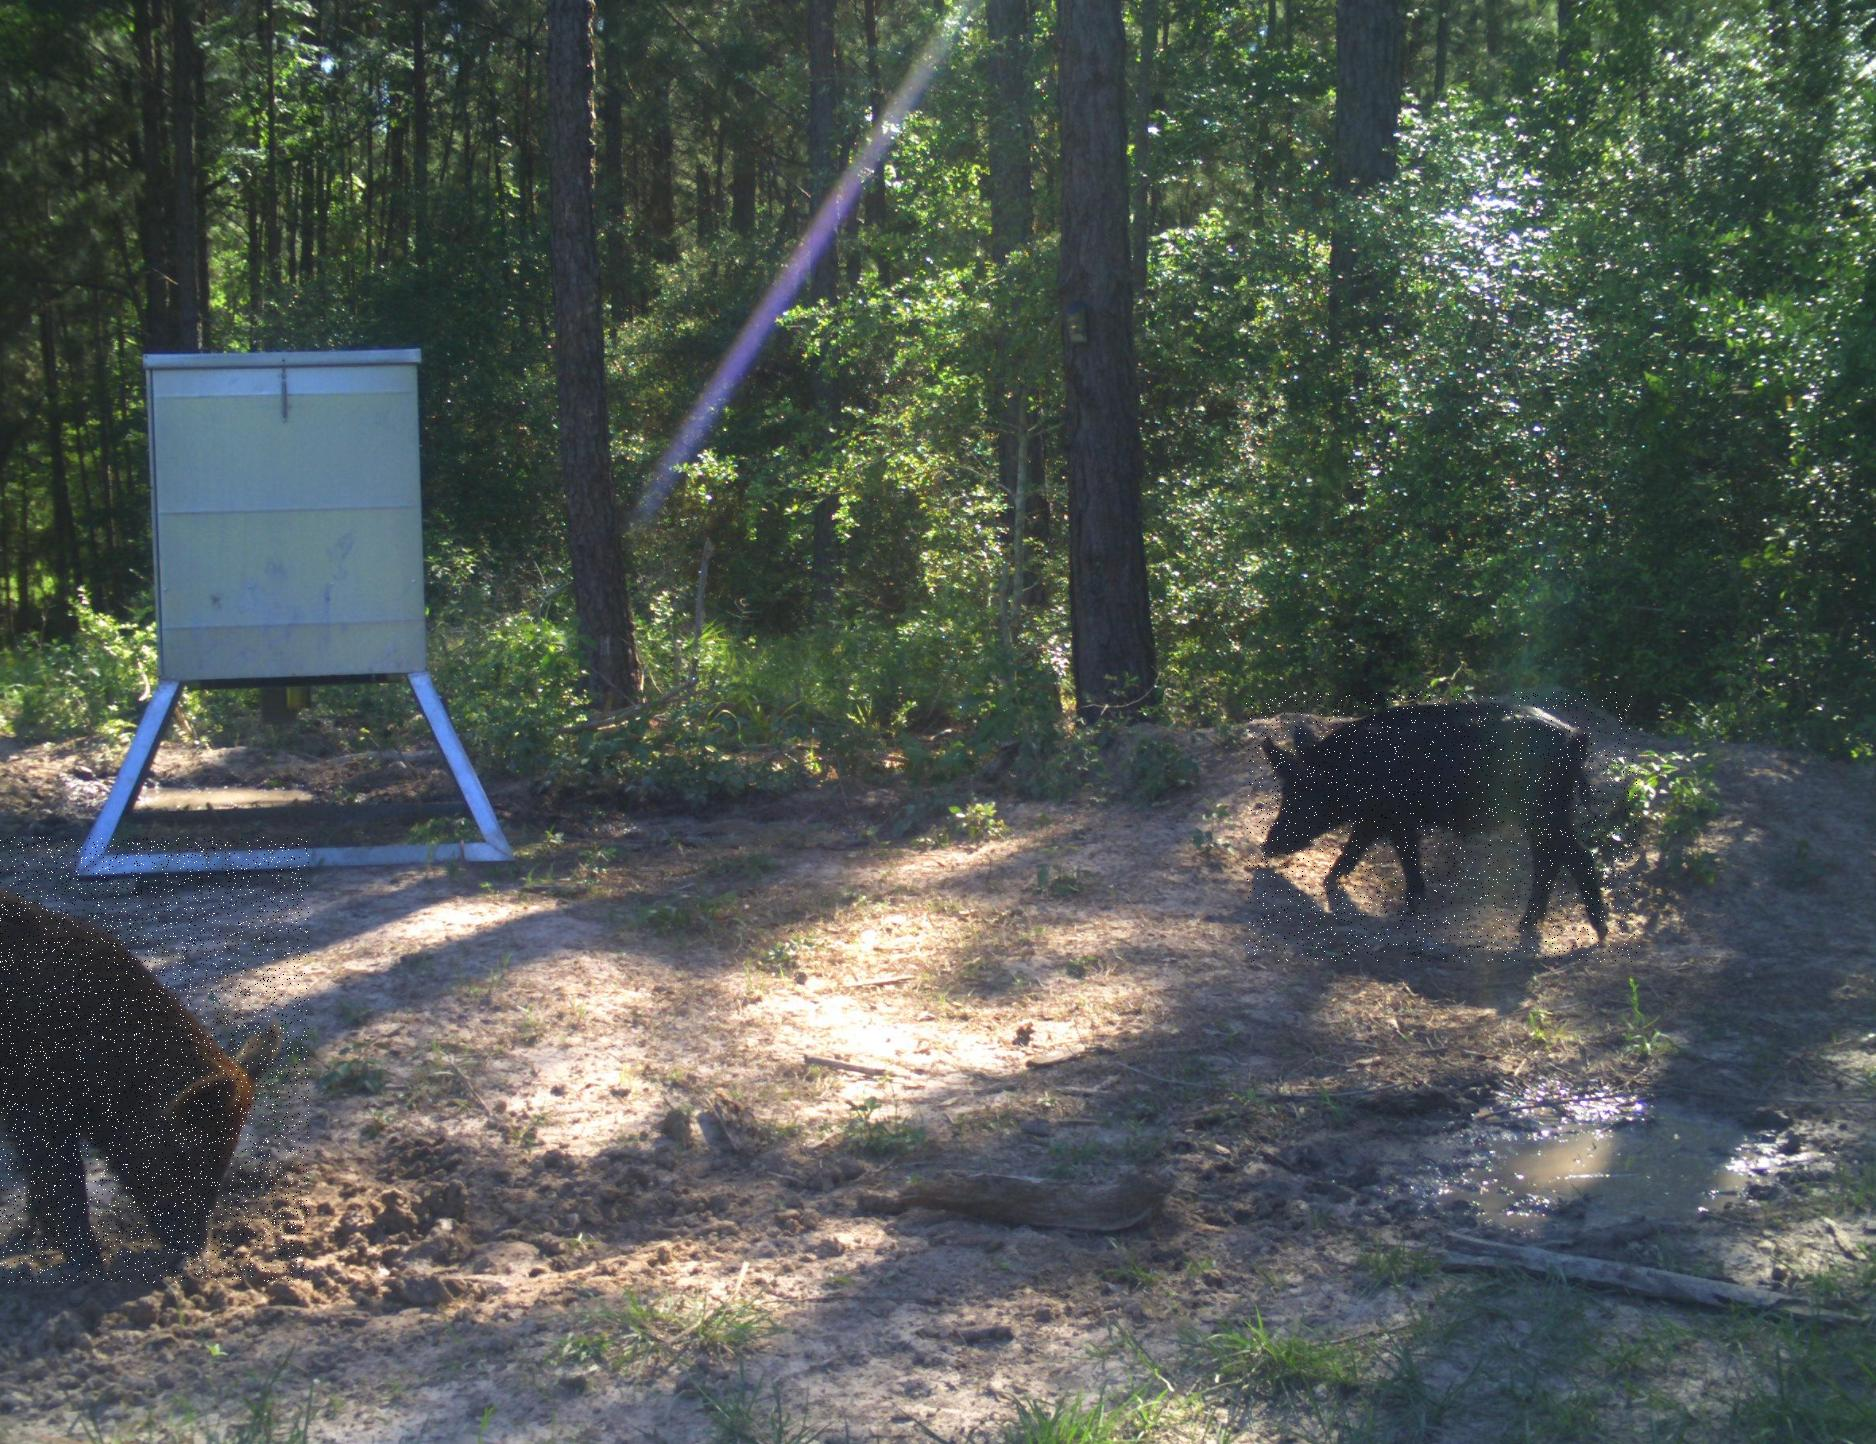Hog: (0, 837, 309, 1283), (1247, 692, 1639, 962)
